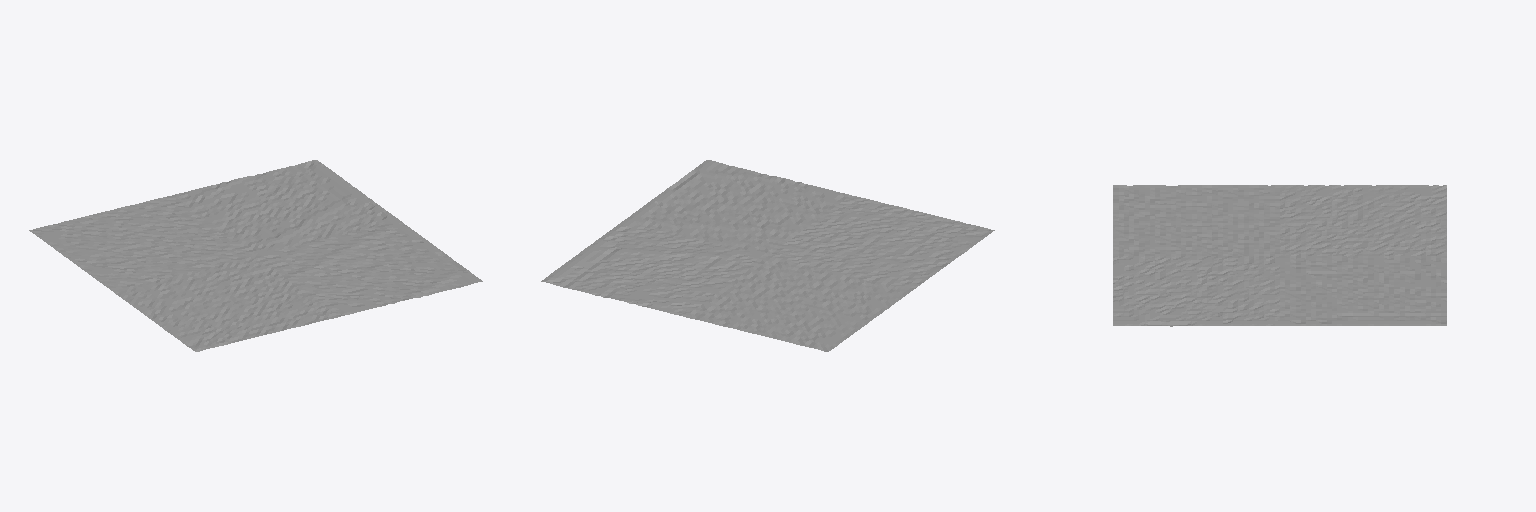
The model's file is parkingHeight.obj.
3 views of the same model, side by side, from view 1: azimuth 30°, elevation 25°; view 2: azimuth 150°, elevation 25°; view 3: azimuth 270°, elevation 25° (orthographic).
Visible parts, largest first — view 1: parkingLot_Plane.003; view 2: parkingLot_Plane.003; view 3: parkingLot_Plane.003.
Part boxes in pixels (x1,y1,x2,y2): parkingLot_Plane.003: (29,160,482,351); parkingLot_Plane.003: (541,160,994,351); parkingLot_Plane.003: (1113,185,1446,326).
Bounding box in the file's own units: 2 × 0.0069 × 2.